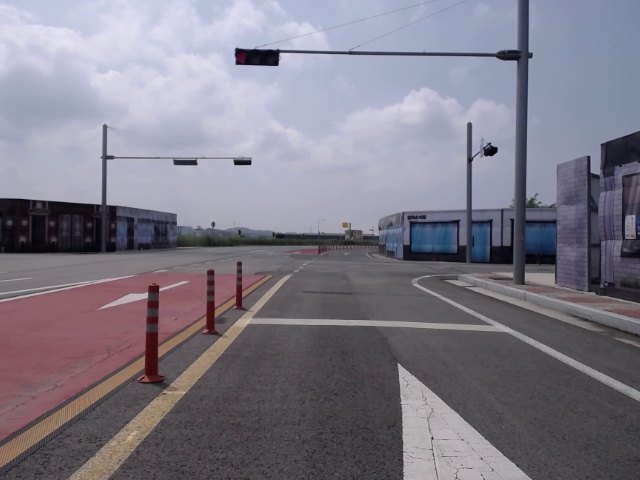red_3: (235, 48, 279, 66)
